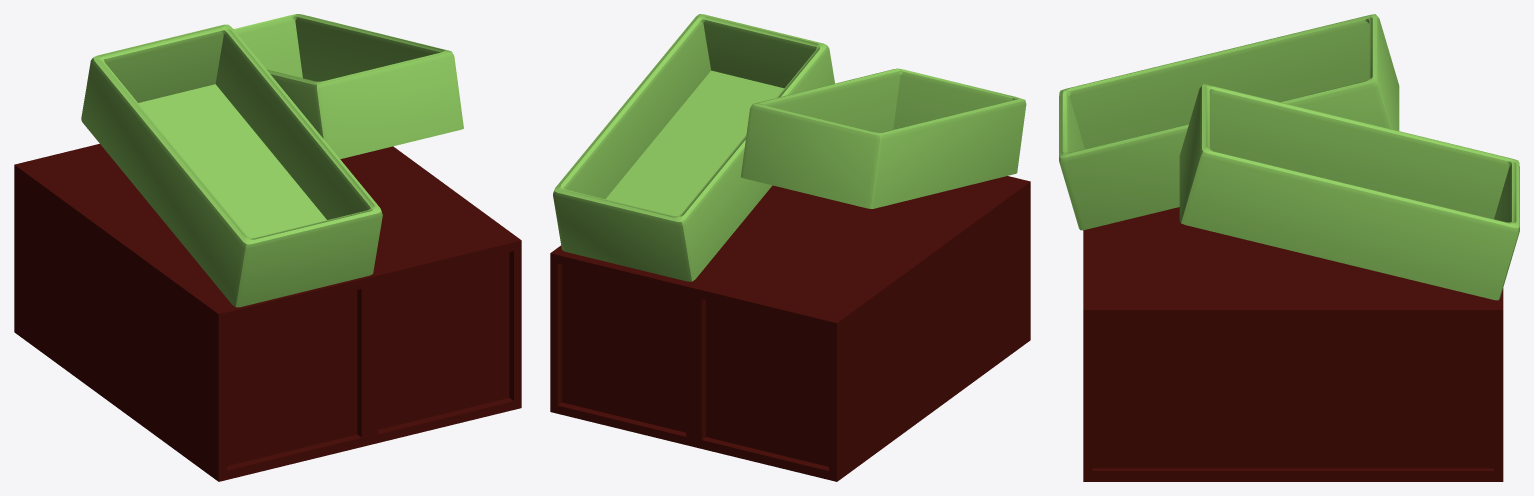
Rendered from shelfMarker3.fbx.
The picture shows the model from 3 angles, left to right: view 1: azimuth 30°, elevation 25°; view 2: azimuth 150°, elevation 25°; view 3: azimuth 270°, elevation 25°; orthographic projection. The views are drawn at different scales.
Parts seen in each view (by area): view 1: Box008, Object002; view 2: Box008, Object002; view 3: Box008, Object002.
Boxes of the visible parts, <box> form: Box008: <box>14,144,521,481</box>; Object002: <box>81,14,463,307</box>; Box008: <box>550,176,1030,481</box>; Object002: <box>553,14,1026,281</box>; Box008: <box>1083,207,1503,481</box>; Object002: <box>1059,14,1519,300</box>.
Size of the model in its own units: 2.17 by 2.16 by 2.78.
